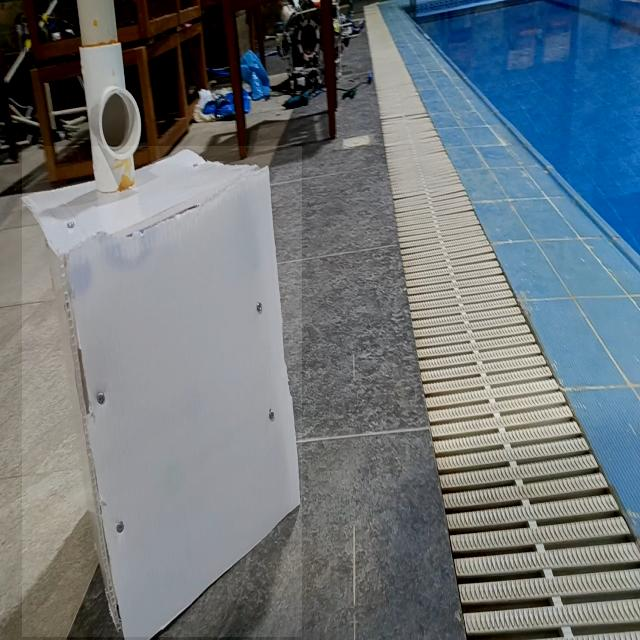Cube: (22, 146, 302, 637)
